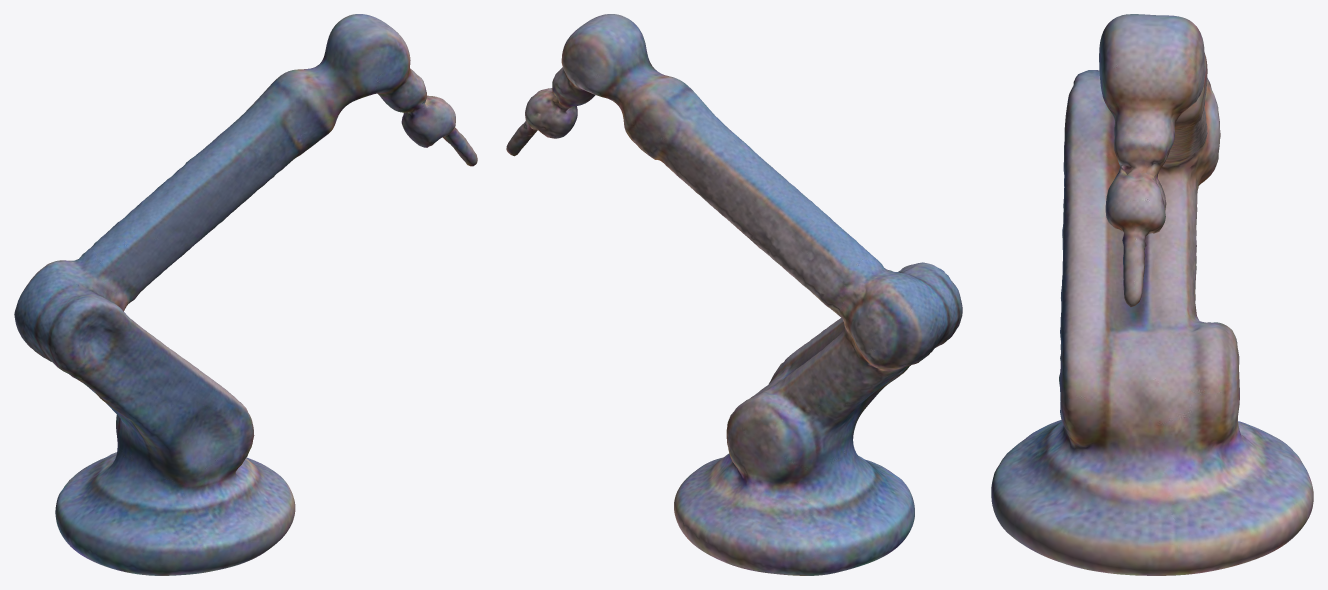
The picture shows the model from 3 angles, left to right: view 1: azimuth 30°, elevation 25°; view 2: azimuth 150°, elevation 25°; view 3: azimuth 270°, elevation 25°; orthographic projection. The views are drawn at different scales.
Visible parts, largest first — view 1: Mesh1; view 2: Mesh1; view 3: Mesh1.
Boxes of the visible parts, bbox=[...] form: Mesh1: bbox=[14, 14, 477, 575]; Mesh1: bbox=[506, 14, 962, 575]; Mesh1: bbox=[991, 14, 1313, 575].
Bounding box in the file's own units: 1.17 × 1.2 × 0.5454.
Materials: 1 (1 with a texture image).
